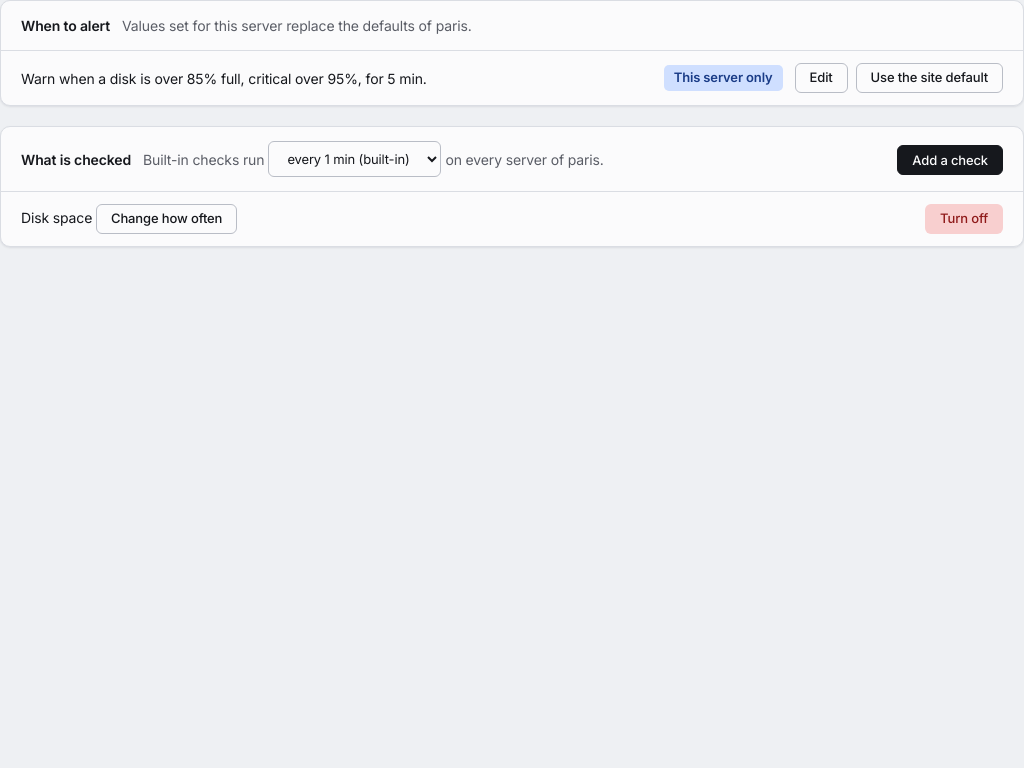
Test: MonitoringSettings › saves for the whole site by replacing the site's row
Click the button "Edit" at (821, 78), box [794,63,848,93]
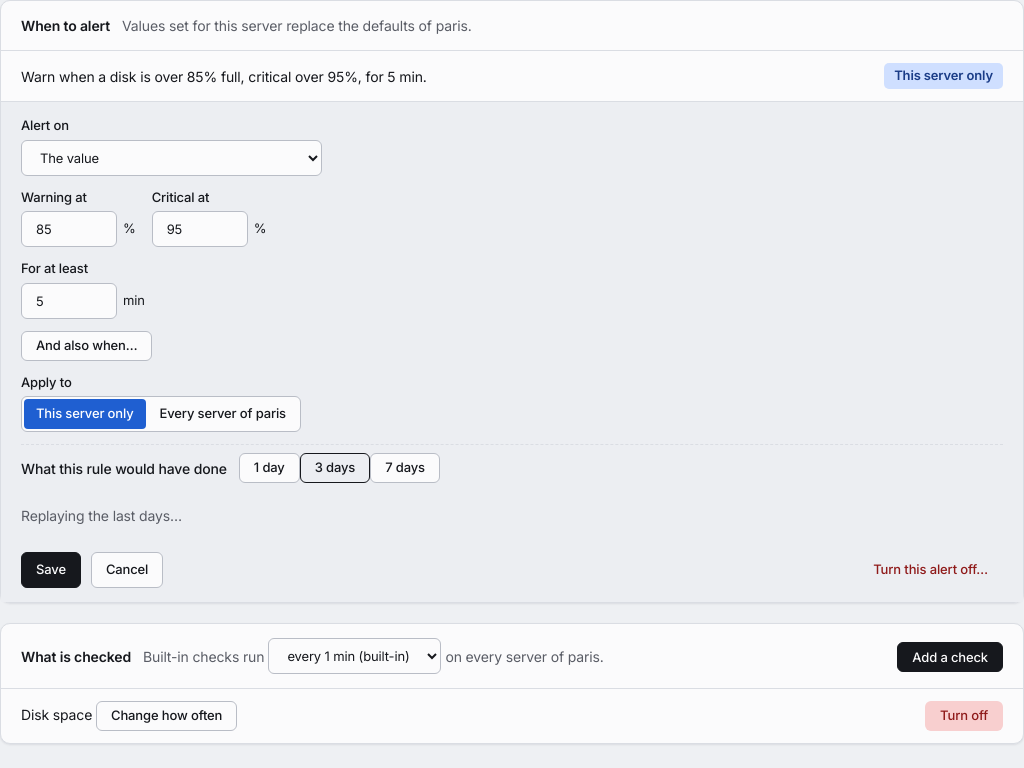
Click the radio button labelled "Every server of paris" at (223, 414), box [148,399,298,429]
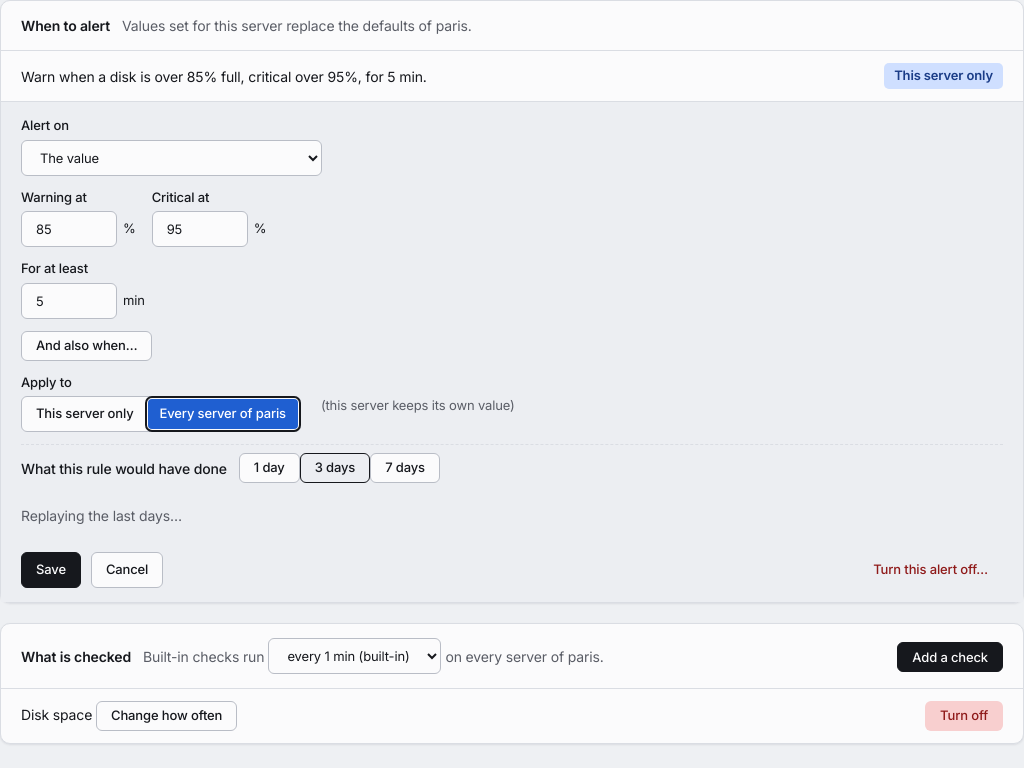
Expected: the text "(this server keeps its own value)" is shown, [321,397,515,413]
Click the button "Save" at (51, 570), box [21,552,81,588]
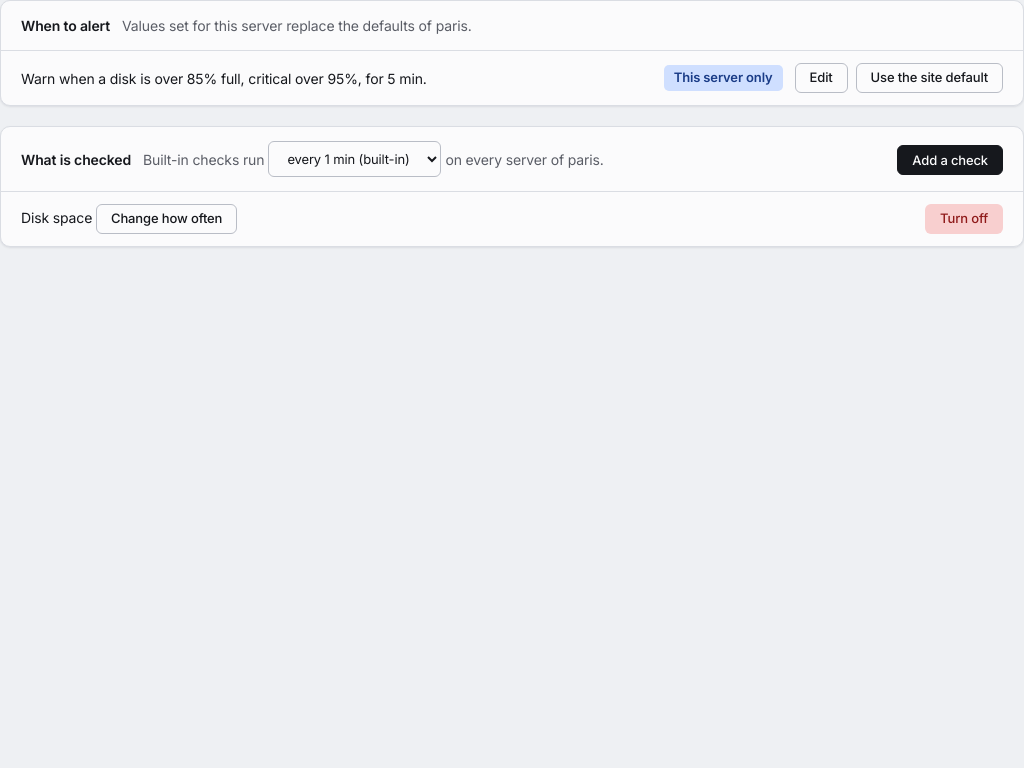
Expected: the button "Edit" is shown, [794,63,848,93]
